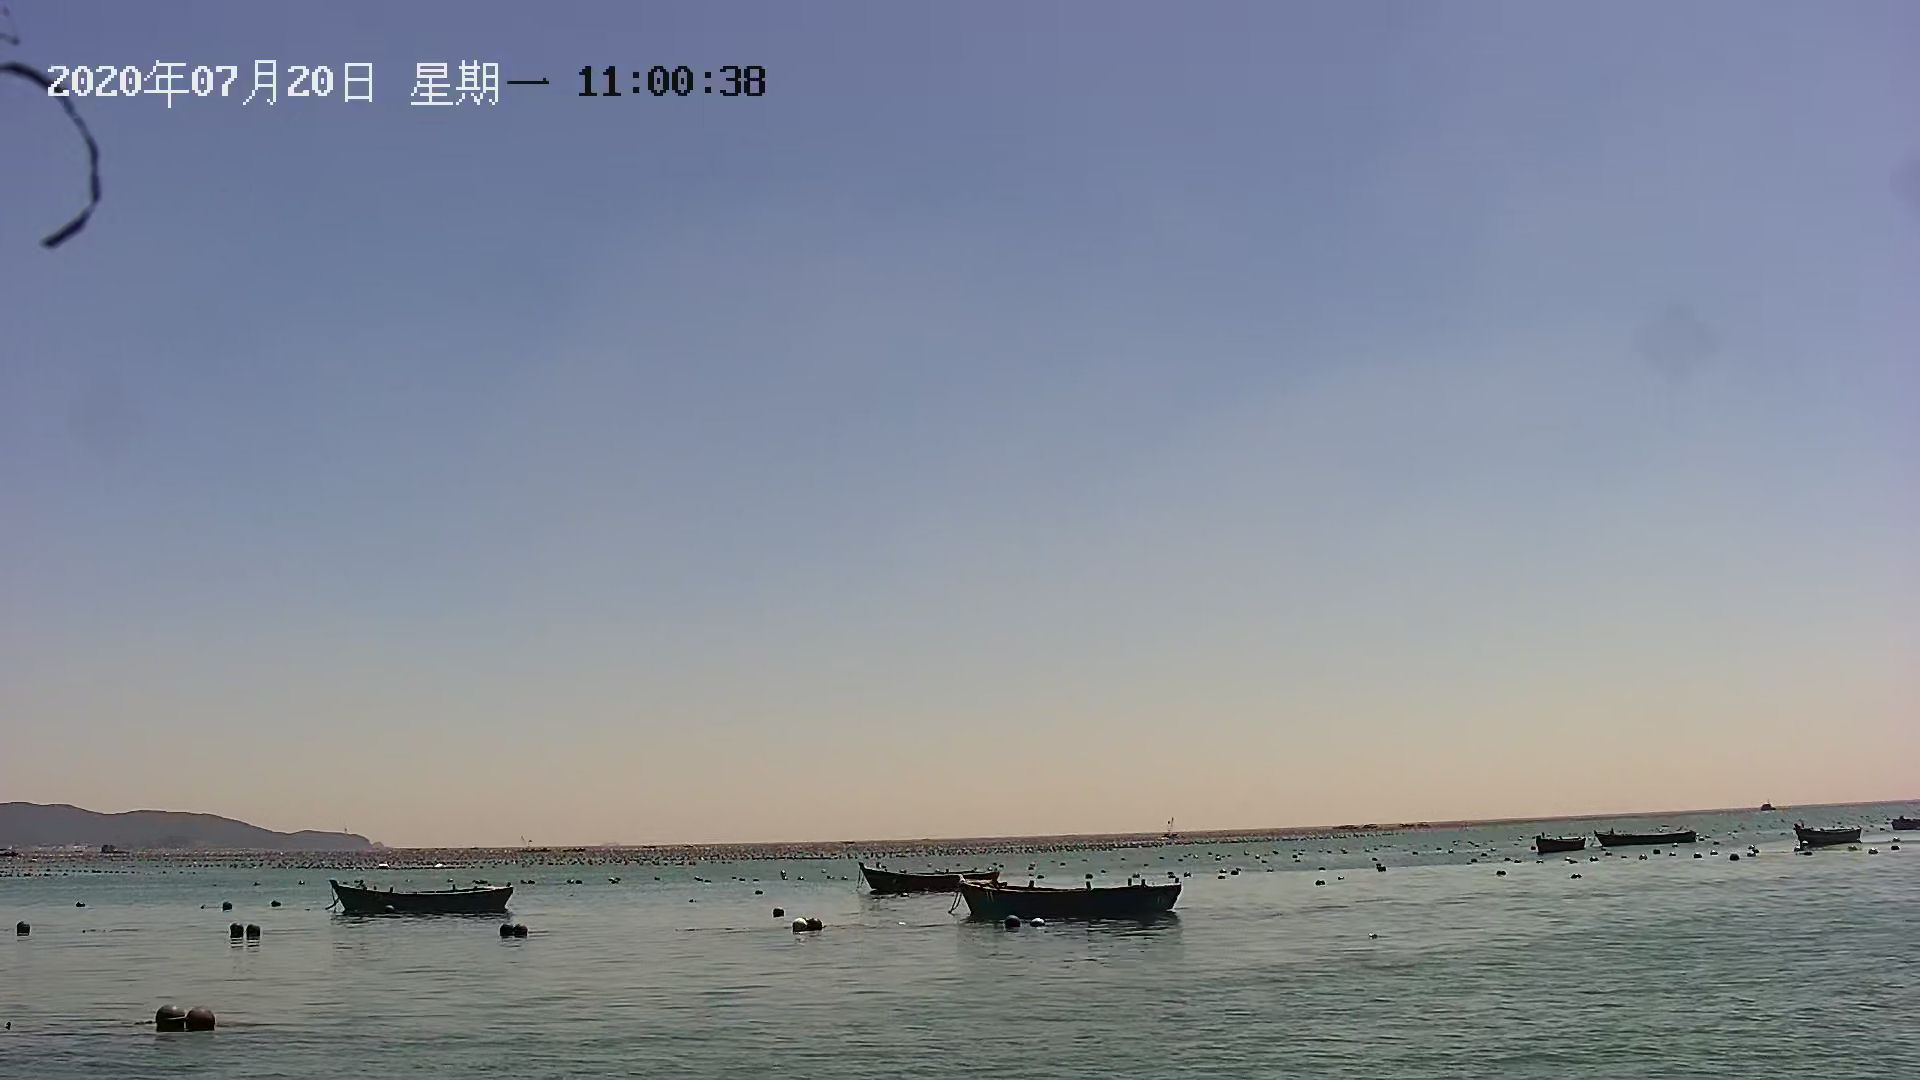ball: (185, 1000, 223, 1036), (148, 1004, 185, 1033), (243, 918, 264, 949), (512, 918, 534, 945), (1005, 910, 1025, 935), (790, 915, 810, 939), (498, 920, 521, 939), (806, 915, 824, 936), (228, 920, 244, 942)
boat: (953, 874, 1187, 923), (320, 877, 516, 920), (853, 861, 1009, 899), (1586, 823, 1704, 849), (1793, 822, 1867, 848), (1530, 829, 1586, 855)
